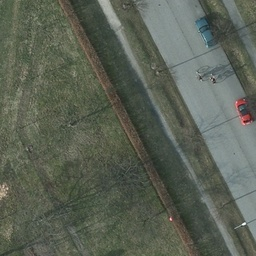car: (194, 17, 217, 50), (235, 98, 253, 126)
